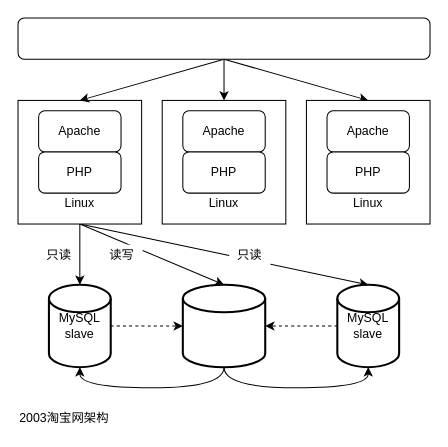
Image size: 448x447. Some labels were removed from this diagram. Each missing label, with the box of its shape:
MySQL master: (181, 283, 266, 368)
负载均衡: (17, 17, 430, 59)
